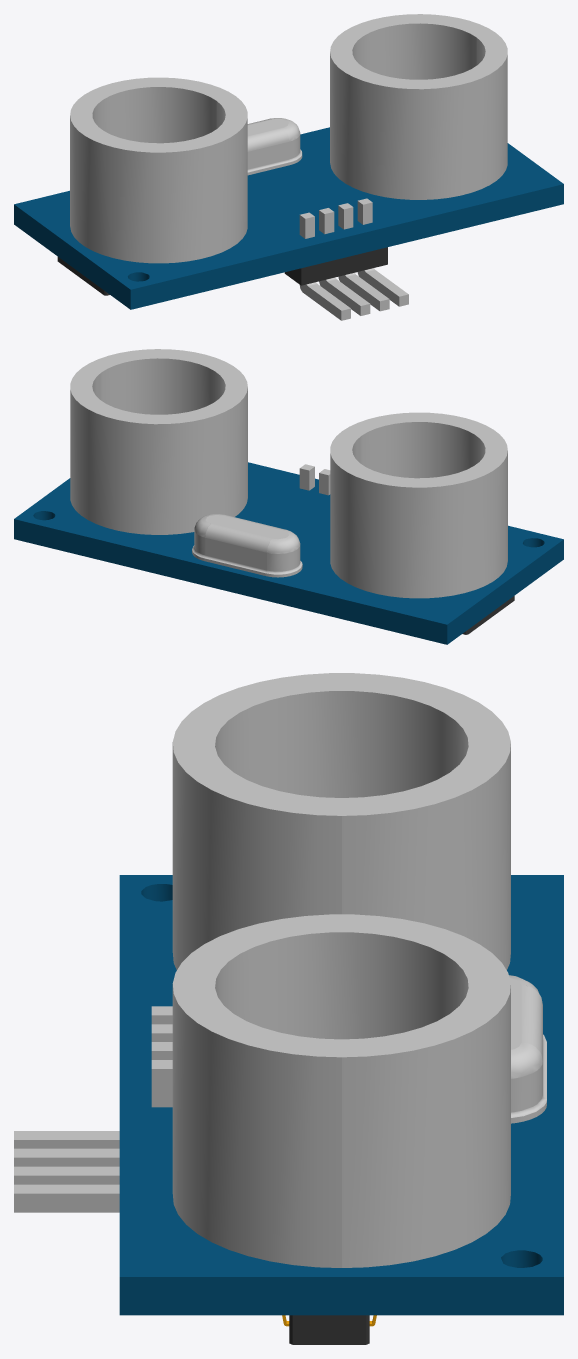
3 renders of one model, top to bottom at view 1: azimuth 30°, elevation 25°; view 2: azimuth 150°, elevation 25°; view 3: azimuth 270°, elevation 25°, orthographic. The views are drawn at different scales.
Parts seen in each view (by area): view 1: Fusion020; view 2: Fusion020; view 3: Fusion020.
Boxes of the visible parts, <box> form: Fusion020: <box>14,14,563,320</box>; Fusion020: <box>14,349,563,644</box>; Fusion020: <box>14,673,563,1344</box>.
Bounding box in the file's own units: 45 × 16.5 × 26.
